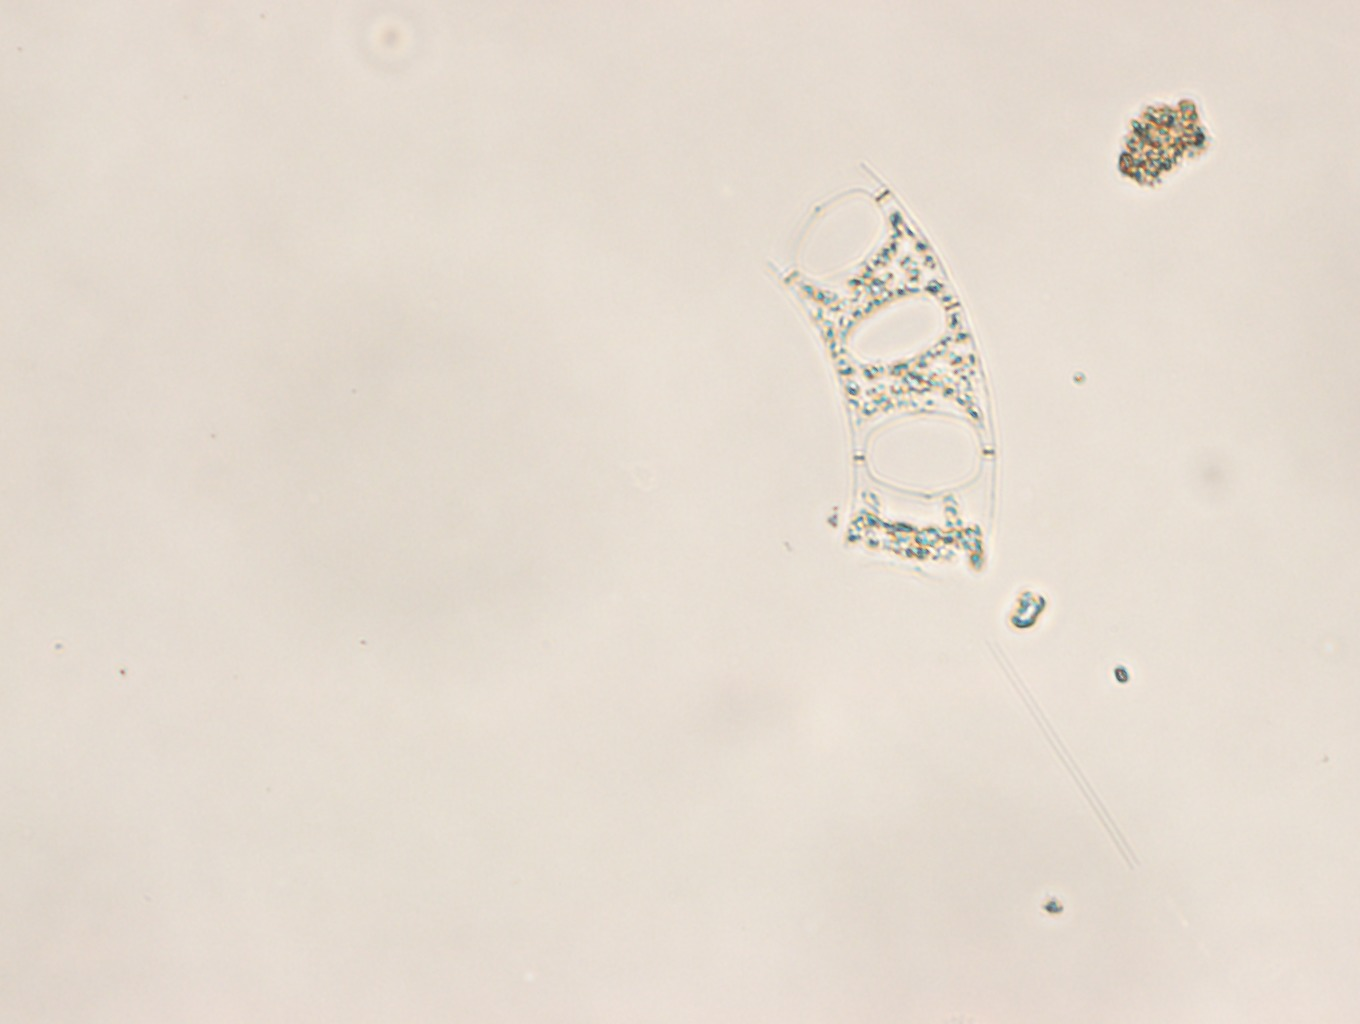eucampia: (761, 163, 997, 583)
